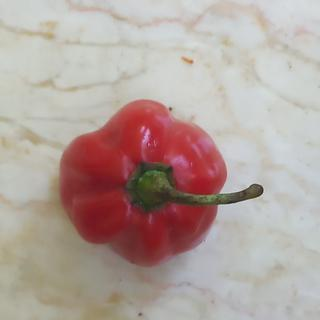Grade-B: (52, 94, 233, 268)
